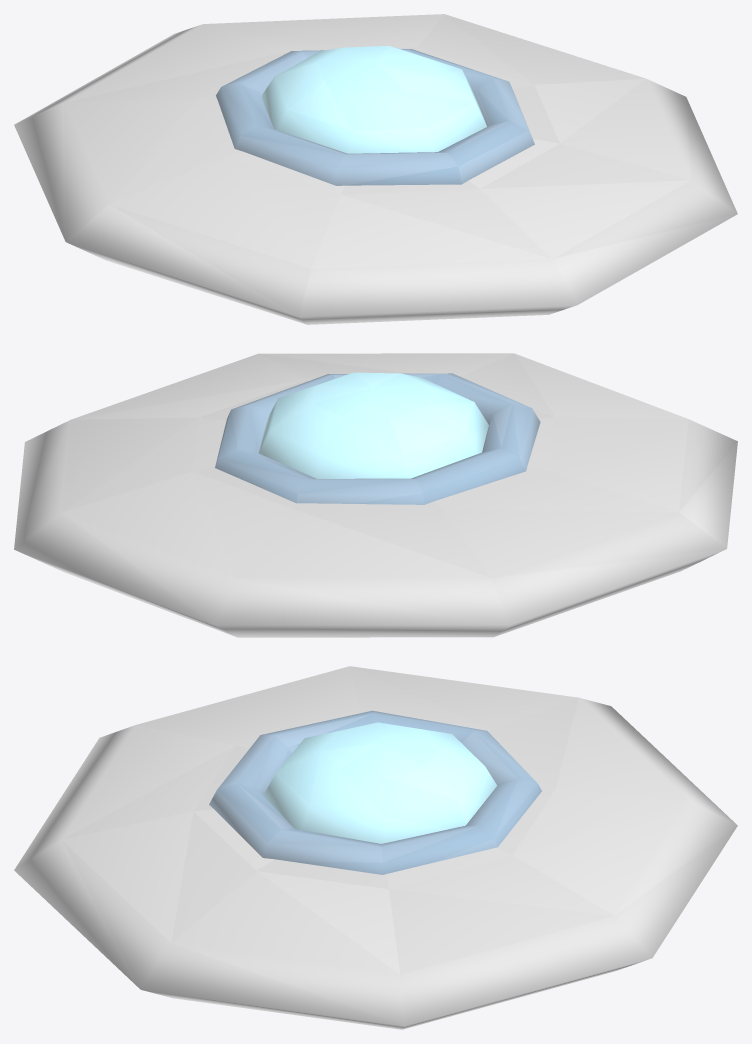
The model's file is fsaucer.glb.
3 views of the same model, one above another, from view 1: azimuth 30°, elevation 25°; view 2: azimuth 150°, elevation 25°; view 3: azimuth 270°, elevation 25° (orthographic). The views are drawn at different scales.
Size of the model in its own units: 0.946 by 0.2482 by 0.9004.
